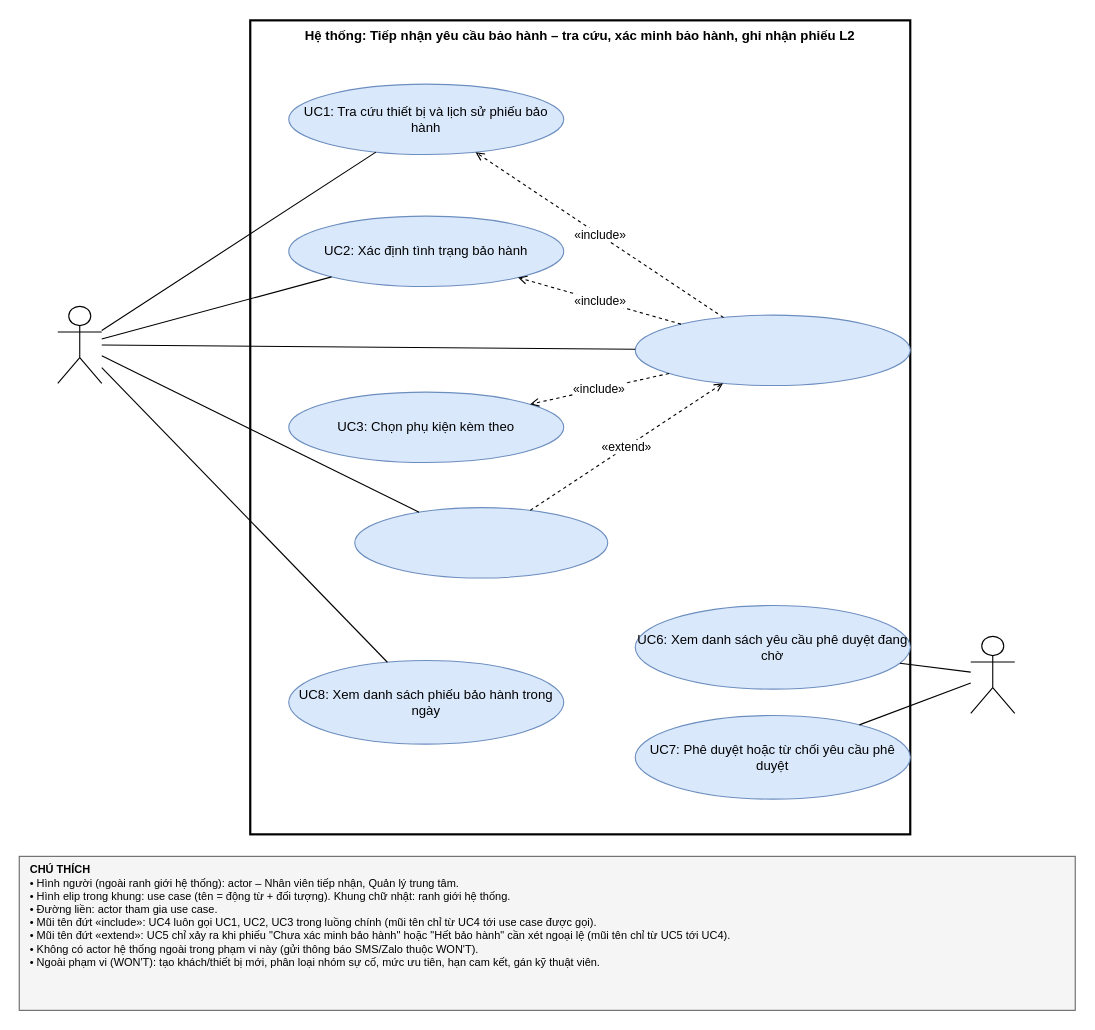
This 1095x1030 diagram has some shape labels left out. Here are the shapes that lost their labels. From the top down, the centre of each, then its label:
At (x=79, y=344): "Nhân viên tiếp nhận".
At (x=772, y=350): "UC4: Tạo phiếu bảo hành mới".
At (x=481, y=542): "UC5: Gửi yêu cầu phê duyệt".
At (x=992, y=674): "Quản lý trung tâm".
